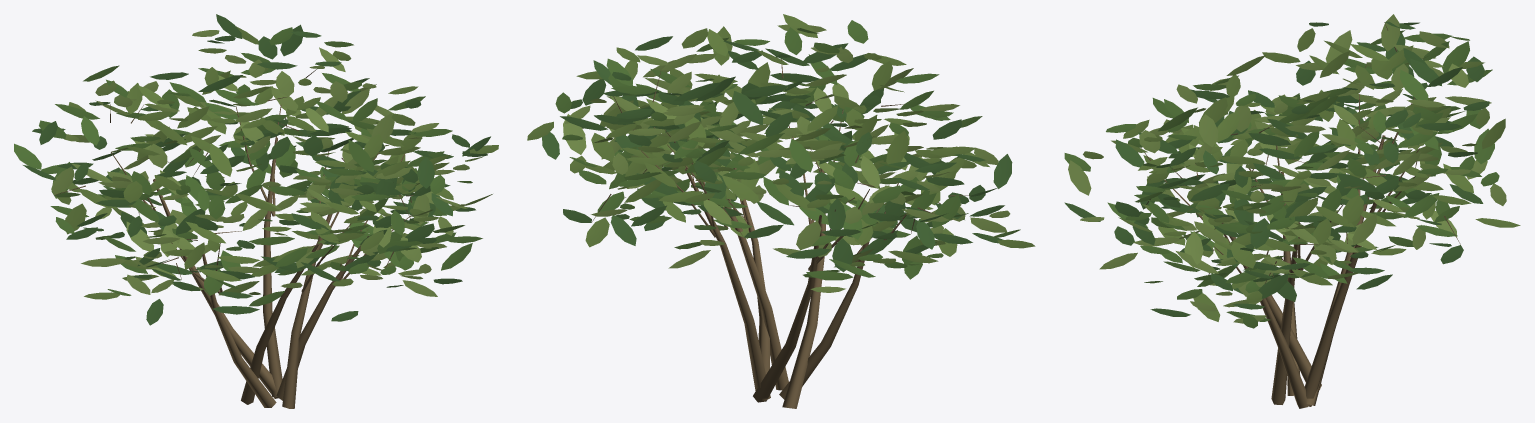
File: Lentisque_0_High.fbx
The picture shows the model from 3 angles, left to right: view 1: azimuth 30°, elevation 25°; view 2: azimuth 150°, elevation 25°; view 3: azimuth 270°, elevation 25°; orthographic projection. The views are drawn at different scales.
Parts seen in each view (by area): view 1: Lentisque_0_High; view 2: Lentisque_0_High; view 3: Lentisque_0_High.
Part boxes in pixels (x1,y1,x2,y2): Lentisque_0_High: (14,14,498,408); Lentisque_0_High: (527,14,1035,408); Lentisque_0_High: (1064,14,1520,408).
Bounding box in the file's own units: 239 × 182 × 217.
